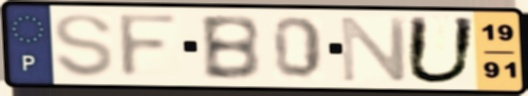0: (269, 14, 326, 83)
B: (196, 12, 264, 82)
F: (115, 11, 184, 81)
N: (337, 15, 411, 84)
S: (51, 11, 117, 80)
U: (402, 14, 480, 87)
